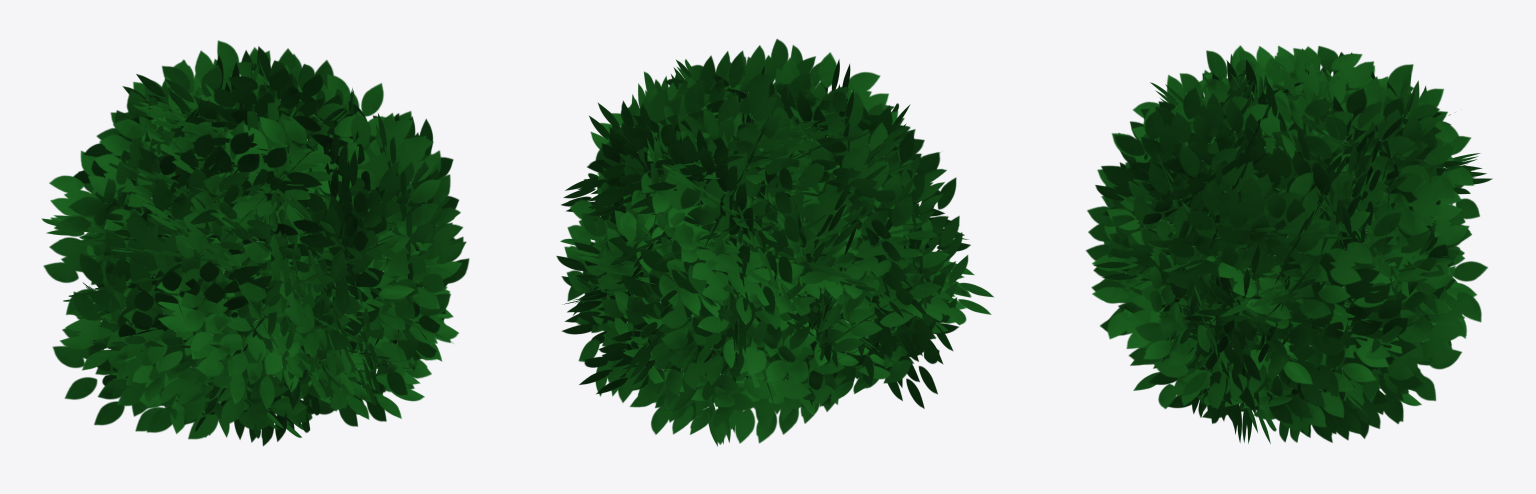
File: bushes_stylized01.glb
3 renders of one model, left to right at view 1: azimuth 30°, elevation 25°; view 2: azimuth 150°, elevation 25°; view 3: azimuth 270°, elevation 25°, orthographic.
Parts seen in each view (by area): view 1: bushes01; view 2: bushes01; view 3: bushes01.
Boxes of the visible parts, x1,y1,x2,y2 form: bushes01: [41, 40, 469, 446]; bushes01: [556, 38, 993, 446]; bushes01: [1086, 45, 1492, 443].
Bounding box in the file's own units: 1.93 × 1.77 × 1.9.
Materials: 1 (1 with a texture image).
